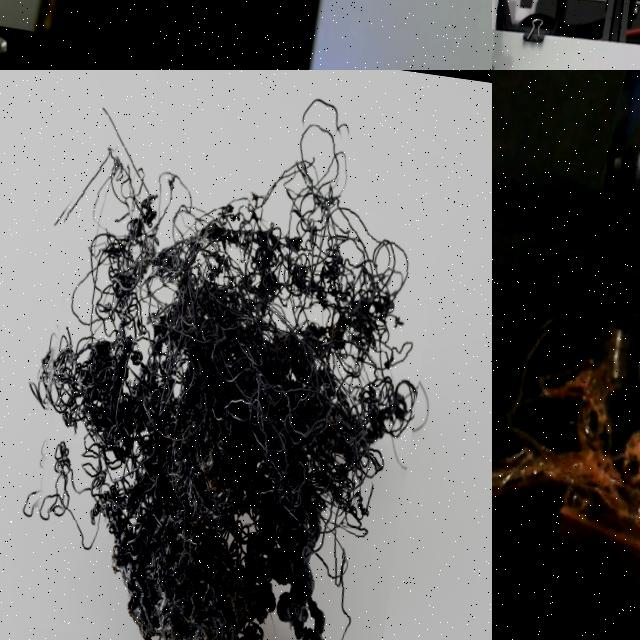spaghetti: (43, 120, 420, 640), (492, 343, 640, 546)
